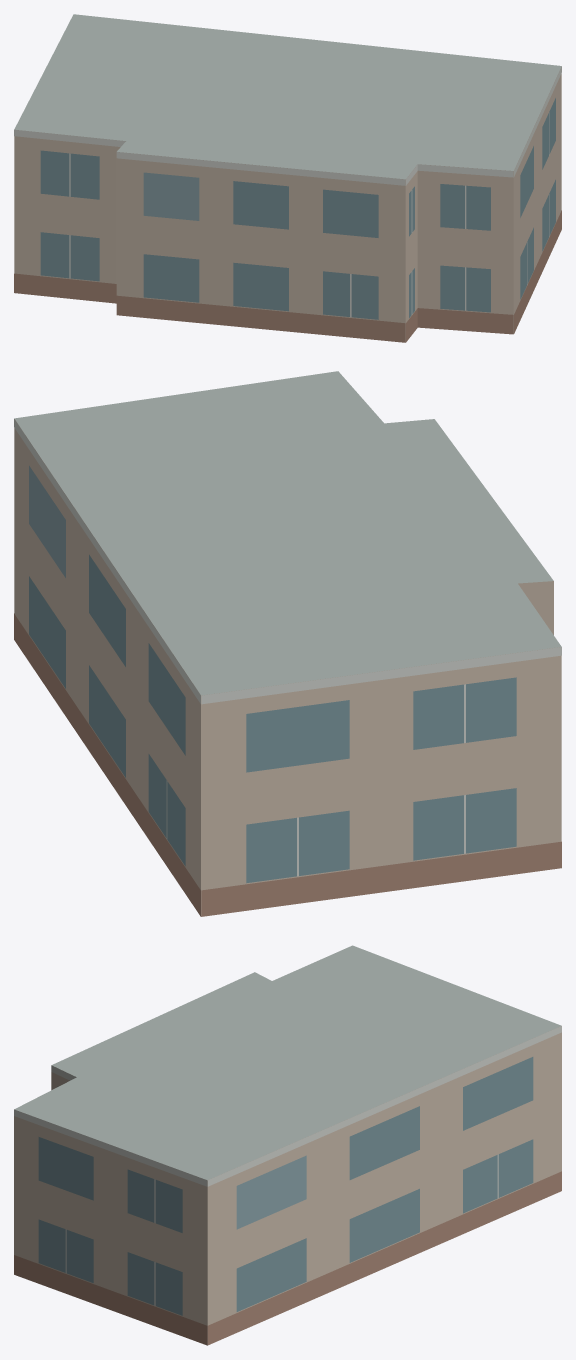
The model's file is survey-upis-32884425.glb.
The picture shows the model from 3 angles, top to bottom: view 1: azimuth 30°, elevation 25°; view 2: azimuth 150°, elevation 25°; view 3: azimuth 270°, elevation 25°; orthographic projection. The views are drawn at different scales.
Parts seen in each view (by area): view 1: survey-upis-32884425.tmp; view 2: survey-upis-32884425.tmp; view 3: survey-upis-32884425.tmp.
Part boxes in pixels (left/top/right/bottom): survey-upis-32884425.tmp: left=14, top=14, right=561, bottom=342; survey-upis-32884425.tmp: left=14, top=371, right=561, bottom=916; survey-upis-32884425.tmp: left=14, top=945, right=561, bottom=1345.
Size of the model in its own units: 18.61 by 6.1 by 18.33.
